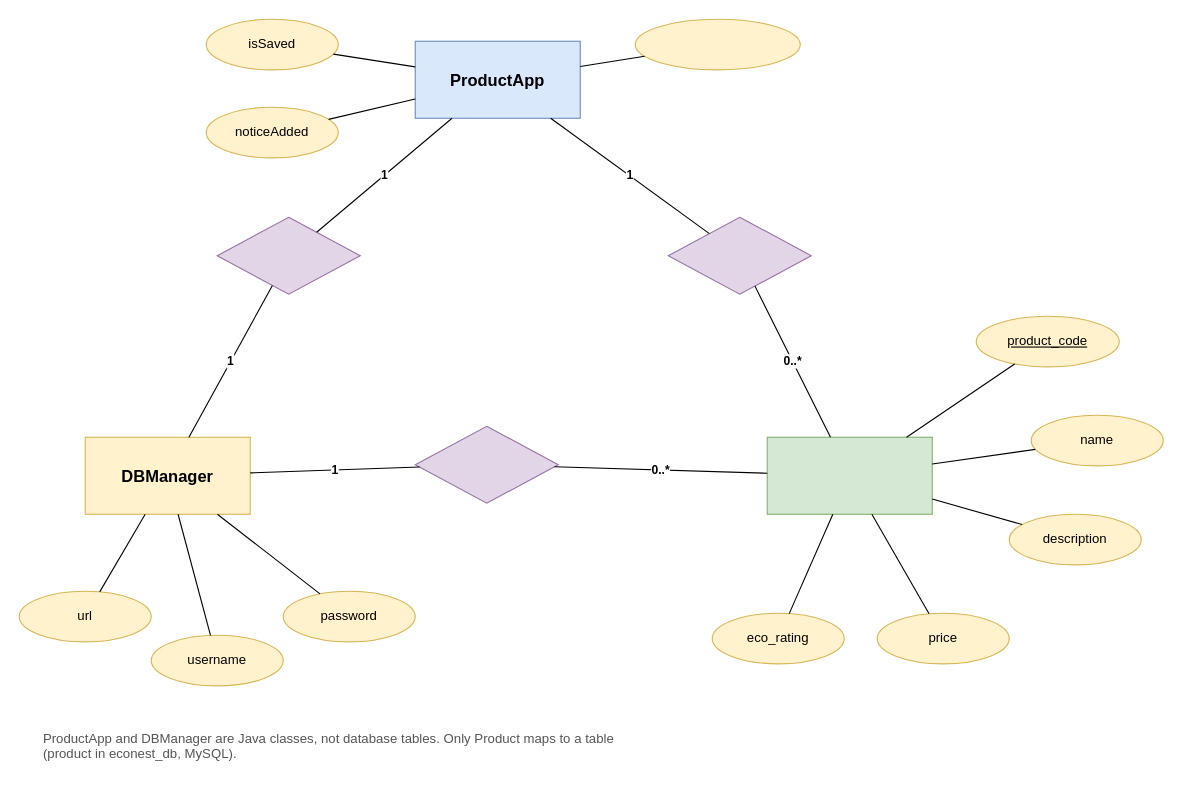
This 1183x787 diagram has some shape labels left out. Here are the shapes that lost their labels. From the top down, the centre of each, then its label:
[717,44]: DESC_MAX_CHARS
[288,255]: uses
[739,255]: manages
[486,464]: reads / writes
[849,475]: Product
